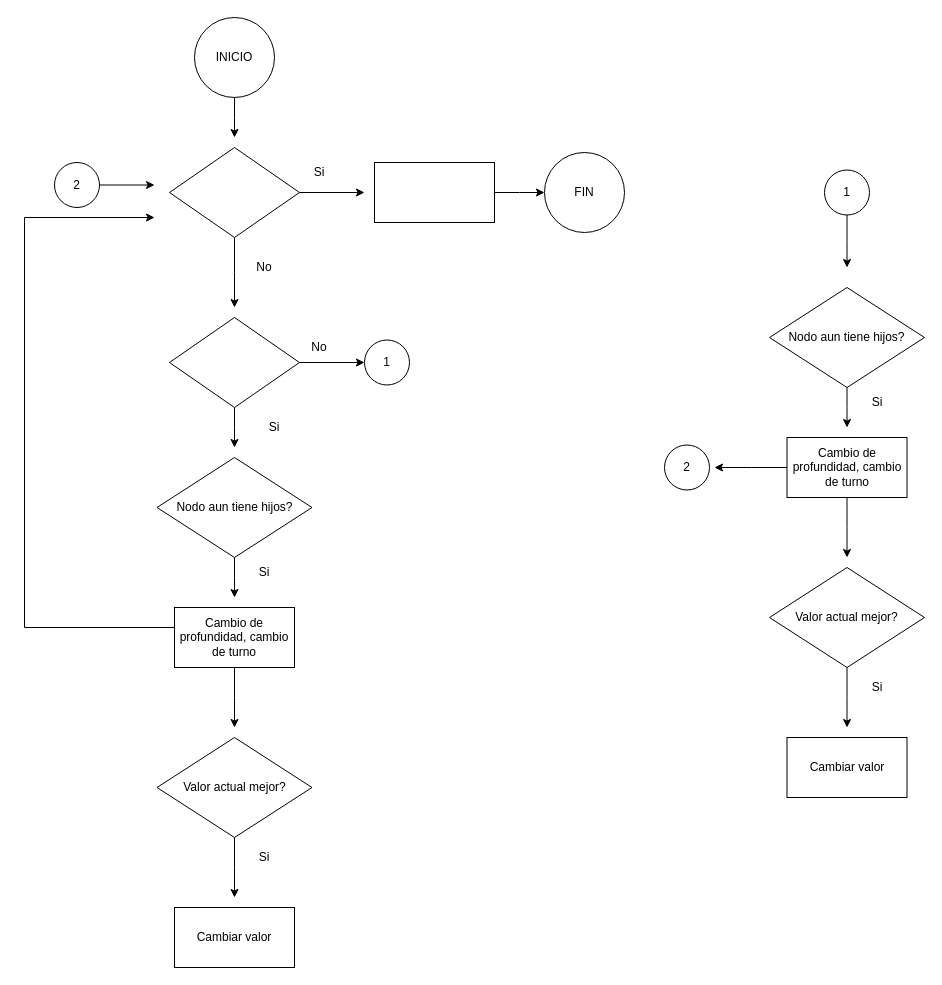
The diagram is 942 pixels wide and 985 high, and some of its shapes have lost their labels. Here are the shapes that lost their labels. From the top down, the centre of each, then its label:
At point 234,192: "Se recorrió el árbol?".
At point 434,192: "Retornar valor heuristico".
At point 234,362: "Es turno de Max?".
